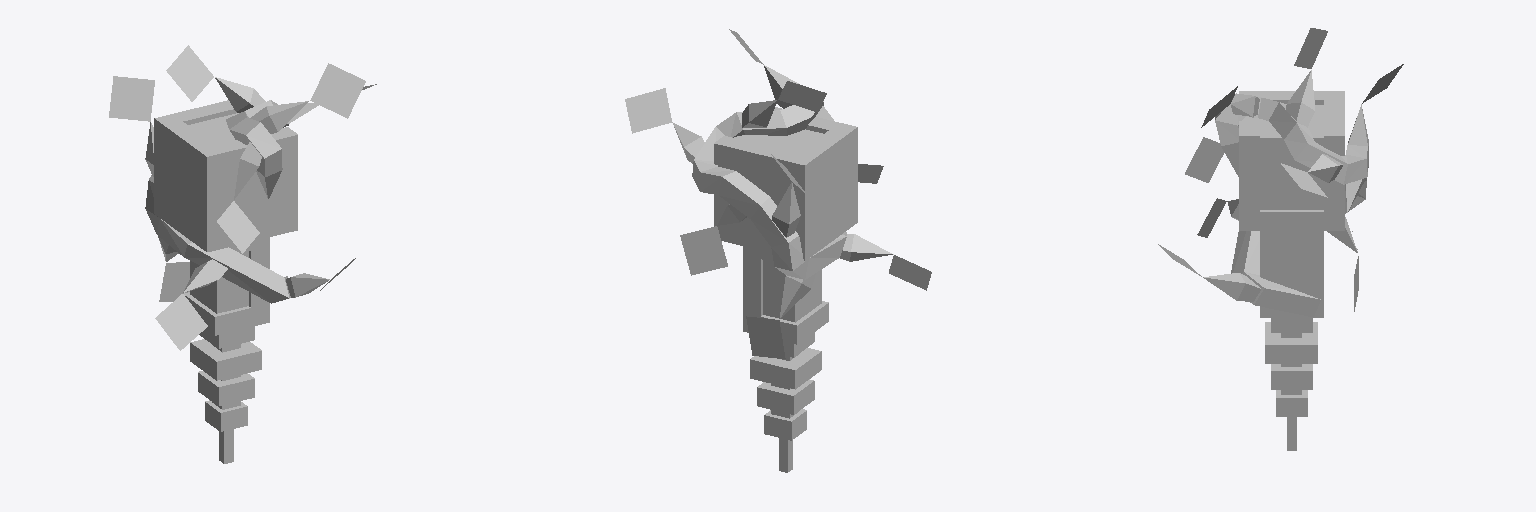
File: arm_blaster_r.obj
3 views of the same model, side by side, from view 1: azimuth 30°, elevation 25°; view 2: azimuth 150°, elevation 25°; view 3: azimuth 270°, elevation 25° (orthographic).
Visible parts, largest first — view 1: ARM_RIGHT_BLASTER_Cube.045, ARM_RIGHT_DECO_WOOD_Cube.023; view 2: ARM_RIGHT_BLASTER_Cube.045, ARM_RIGHT_DECO_WOOD_Cube.023; view 3: ARM_RIGHT_BLASTER_Cube.045, ARM_RIGHT_DECO_WOOD_Cube.023.
Part boxes in pixels (x1,y1,x2,y2): ARM_RIGHT_BLASTER_Cube.045: (154, 100, 297, 463); ARM_RIGHT_DECO_WOOD_Cube.023: (109, 45, 376, 350); ARM_RIGHT_BLASTER_Cube.045: (714, 107, 857, 472); ARM_RIGHT_DECO_WOOD_Cube.023: (625, 29, 931, 358); ARM_RIGHT_BLASTER_Cube.045: (1239, 91, 1344, 450); ARM_RIGHT_DECO_WOOD_Cube.023: (1158, 28, 1403, 317).
Size of the model in its own units: 0.9066 by 1.33 by 0.7382.